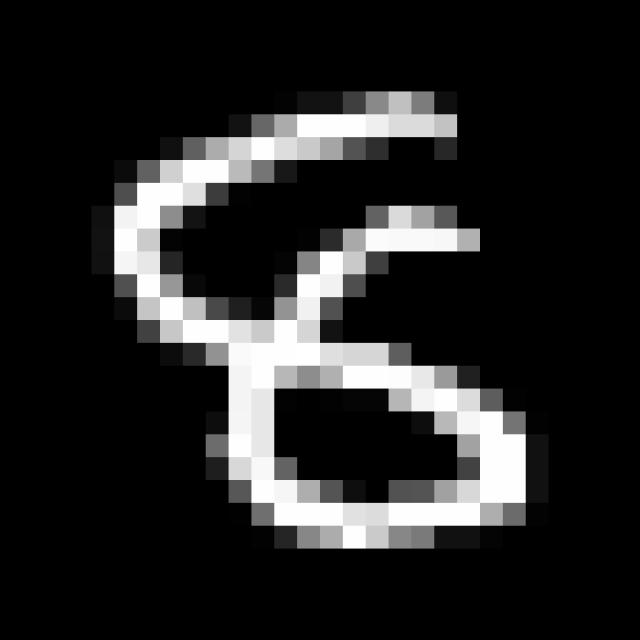eight -8-: (107, 89, 545, 554)
